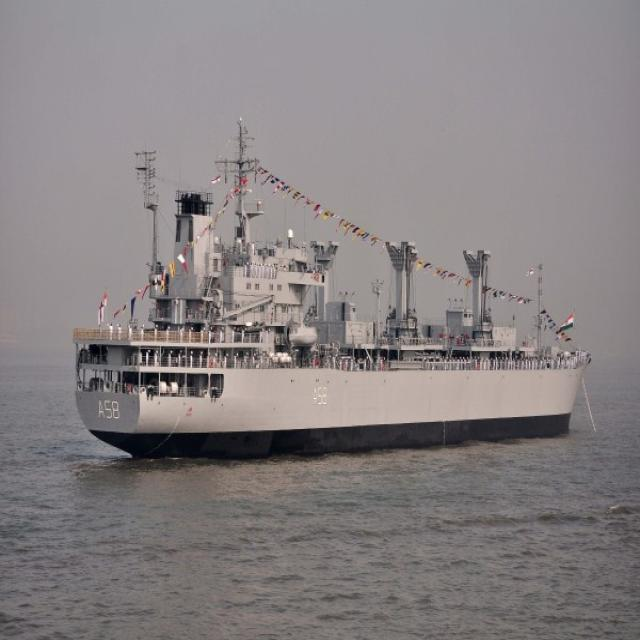Tanker-Komandarm_Fedko_Class-IND: (66, 107, 593, 465)
